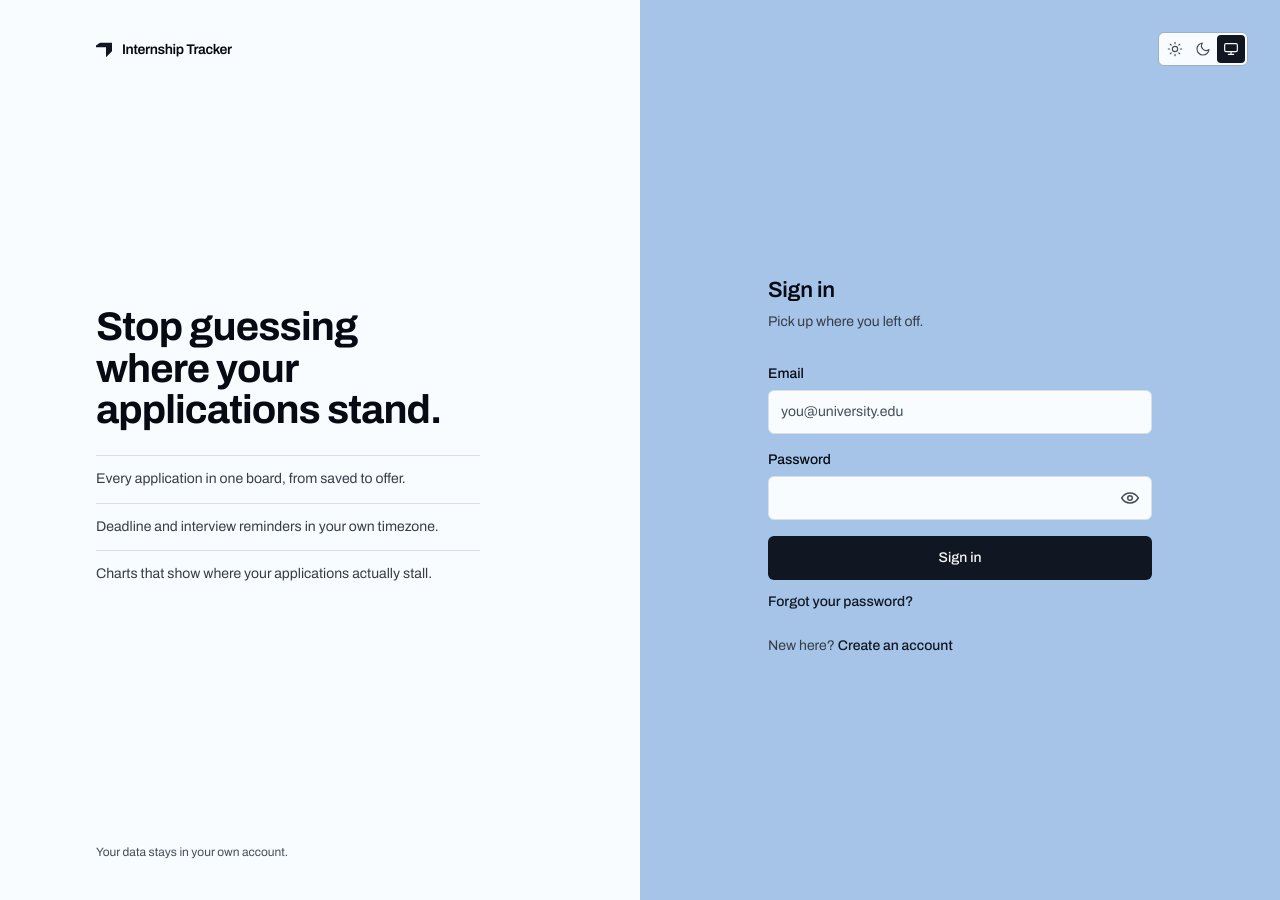
Test case: signing in to a closed account › says why when a restore is refused, next to the form
Expected: the button "Sign in" is shown, [768,536,1152,580]
Type "ada@example.test" into the field labelled "Email" at (960,412), box [768,390,1152,434]
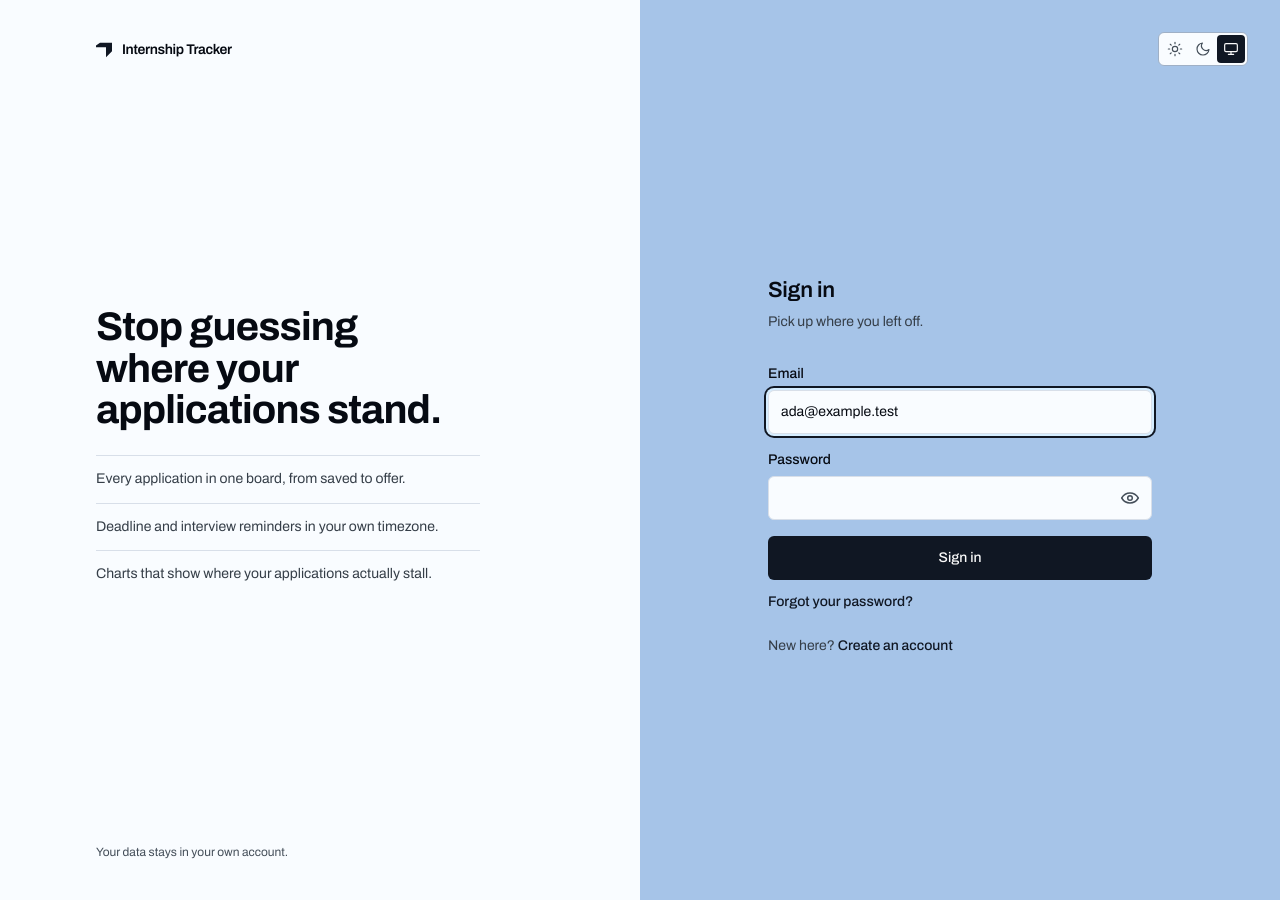
Type "Password1" into the password field labelled "Password" at (960,498), box [768,476,1152,520]
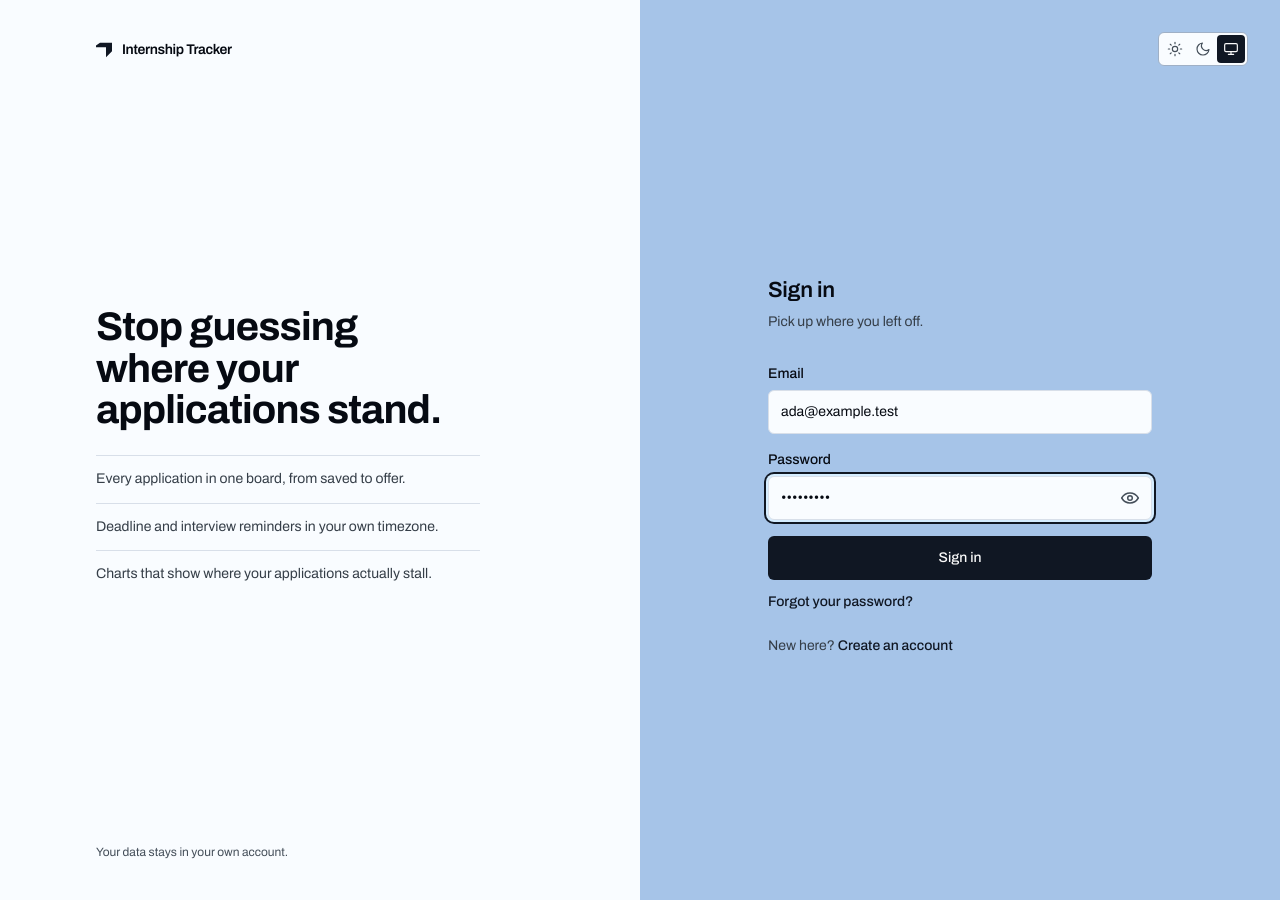
Click the button "Sign in" at (960,558), box [768,536,1152,580]
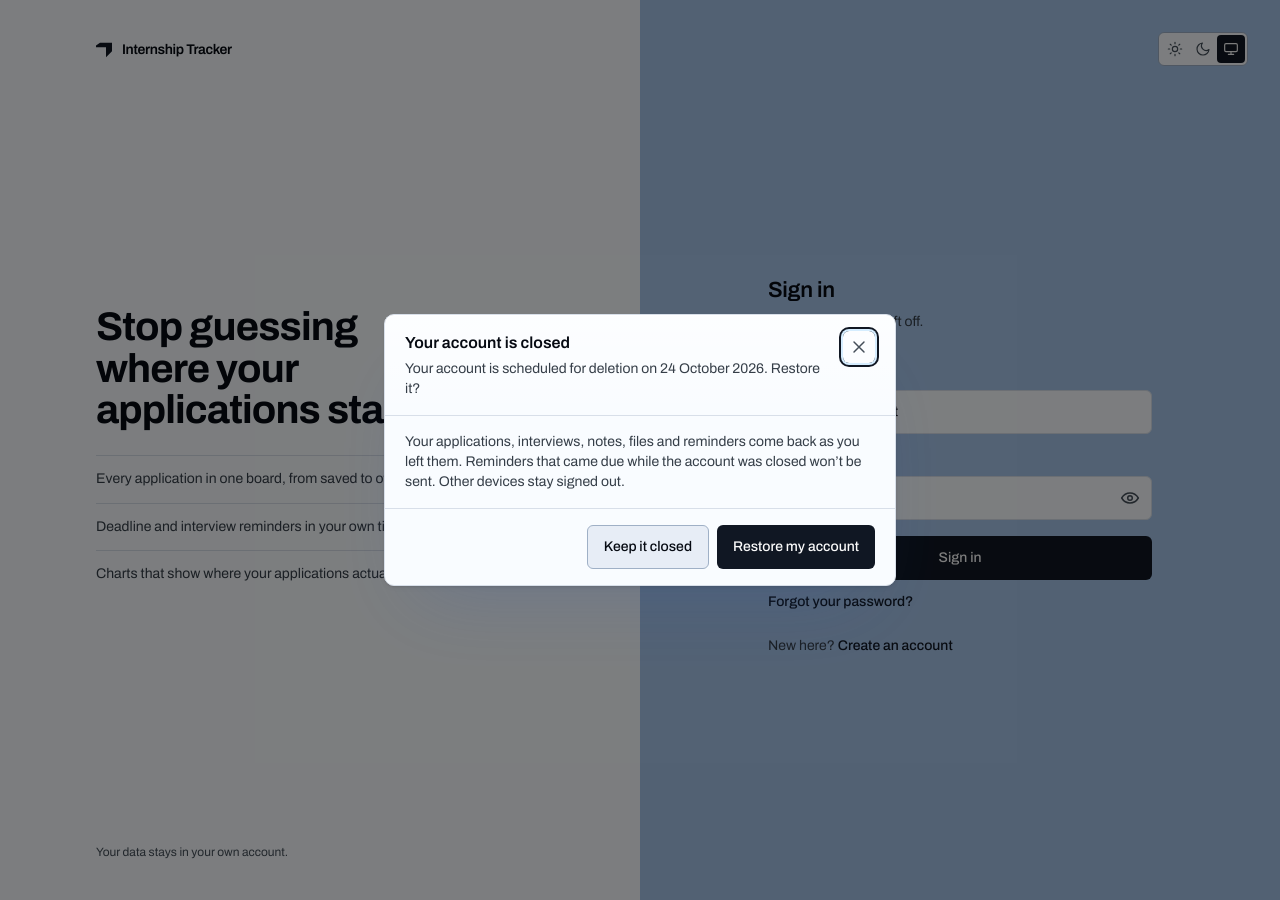
Click the button "Restore my account" at (796,547), box [717,525,875,569]
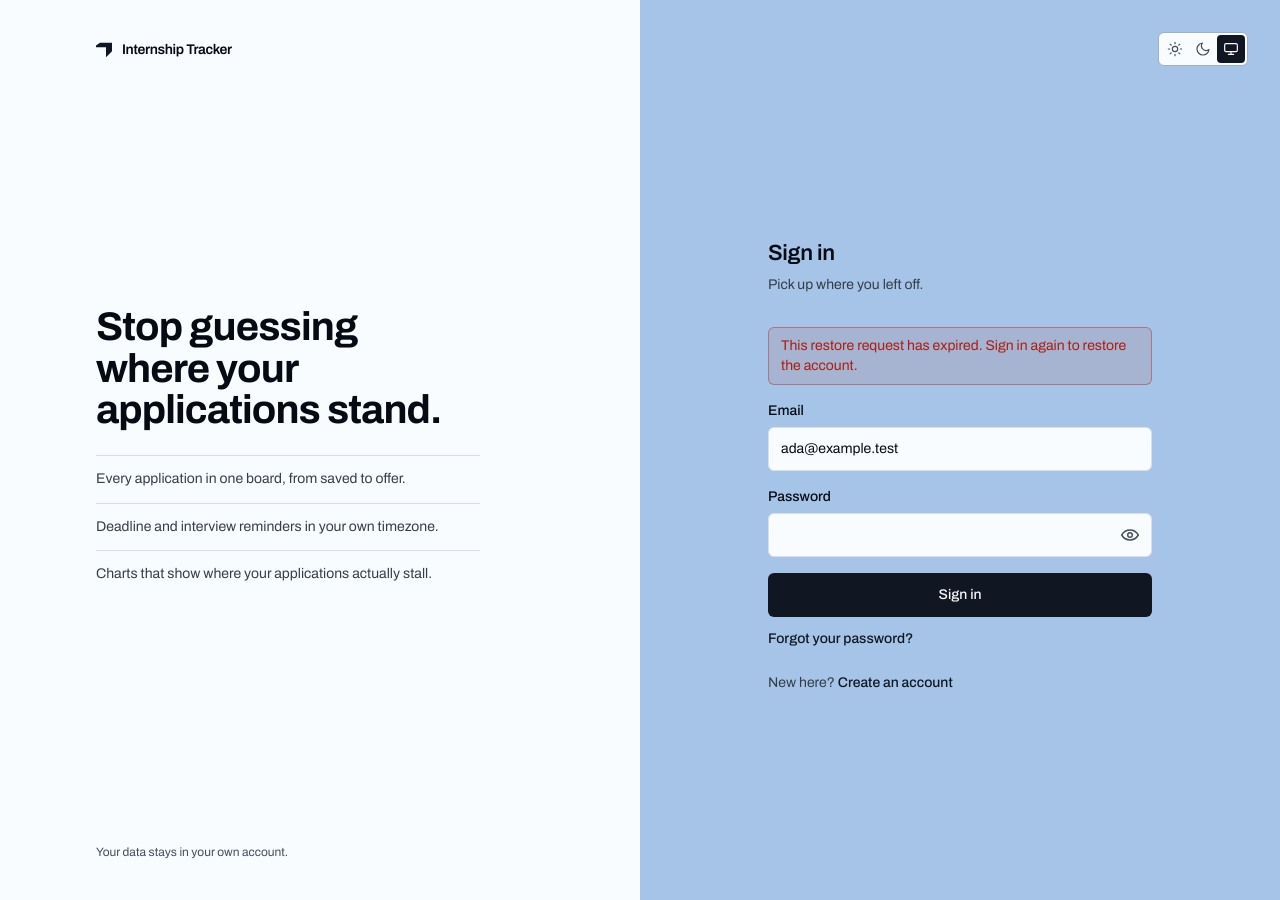
Result: the message shows "This restore request has expired" at [781,338,1126,373]
Result: the dialog is gone
